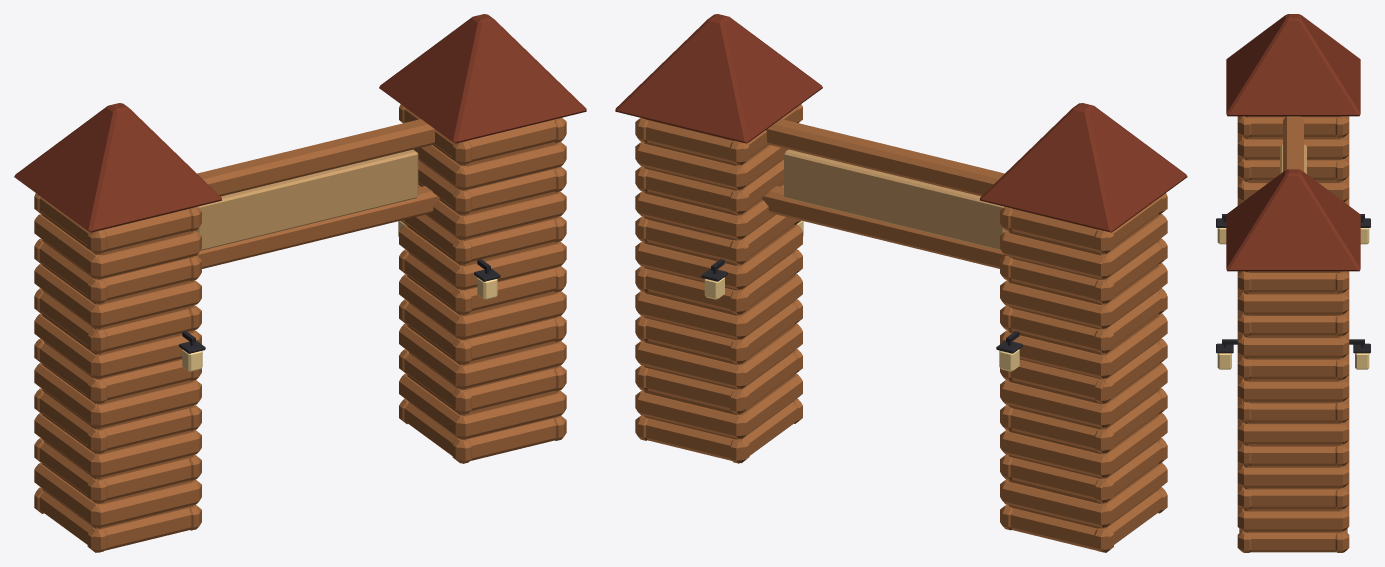
The model's file is LogGatehouse.fbx.
3 renders of one model, left to right at view 1: azimuth 30°, elevation 25°; view 2: azimuth 150°, elevation 25°; view 3: azimuth 270°, elevation 25°, orthographic. The views are drawn at different scales.
Parts seen in each view (by area): view 1: Log, Roof, Sign, Lamp; view 2: Log, Roof, Sign, Lamp; view 3: Log, Roof, Lamp, Iron.
Boxes of the visible parts, <box> form: Log: <box>34,104,566,552</box>; Roof: <box>14,14,586,232</box>; Sign: <box>196,149,418,250</box>; Lamp: <box>182,221,497,371</box>; Log: <box>635,104,1167,552</box>; Roof: <box>615,14,1187,232</box>; Sign: <box>784,149,1005,250</box>; Lamp: <box>704,220,1019,371</box>; Log: <box>1237,116,1349,552</box>; Roof: <box>1226,14,1360,271</box>; Lamp: <box>1217,228,1369,369</box>; Iron: <box>1216,214,1370,353</box>.
Size of the model in its own units: 31.42 by 25 by 9.7.
